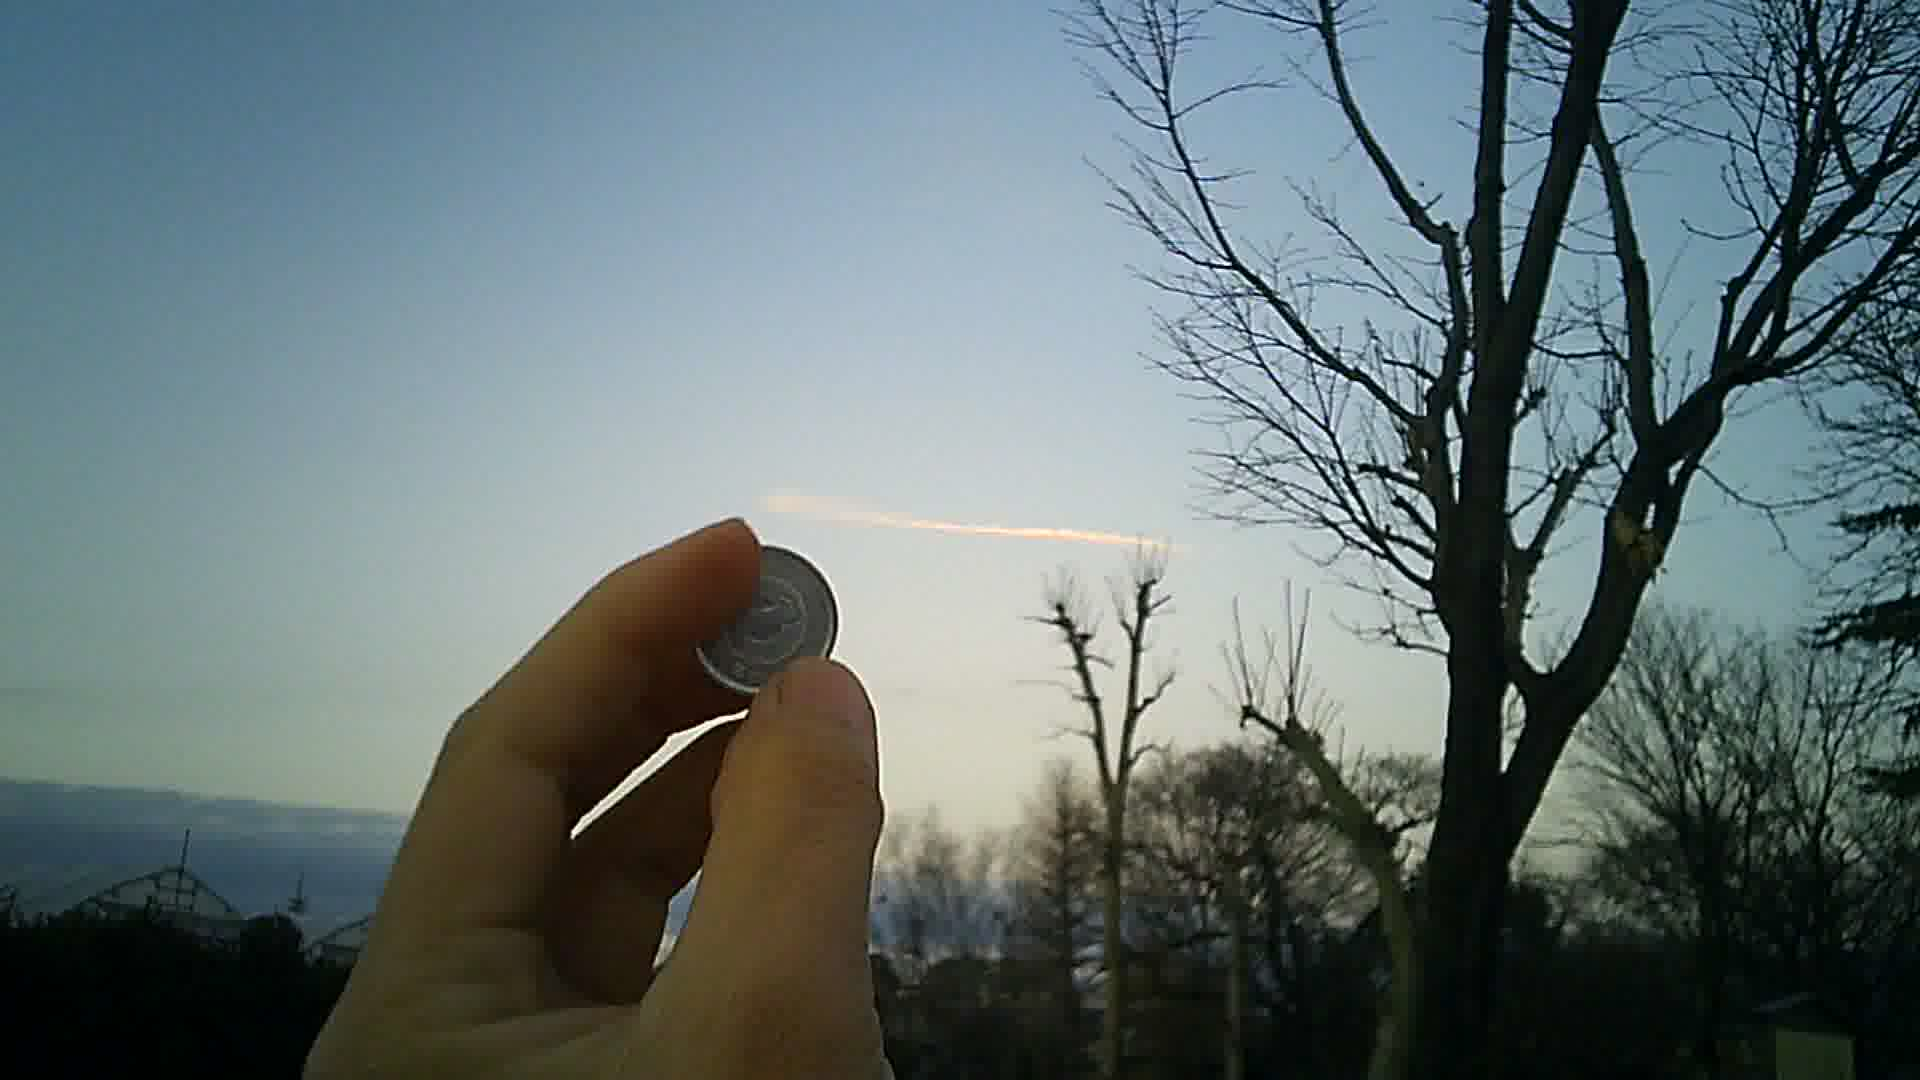1 Yen: (676, 530, 841, 696)
